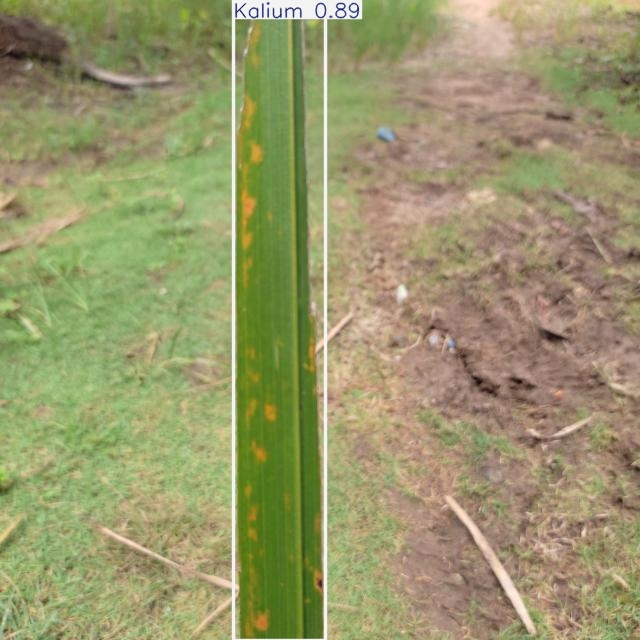Kalium: (234, 0, 325, 640)
